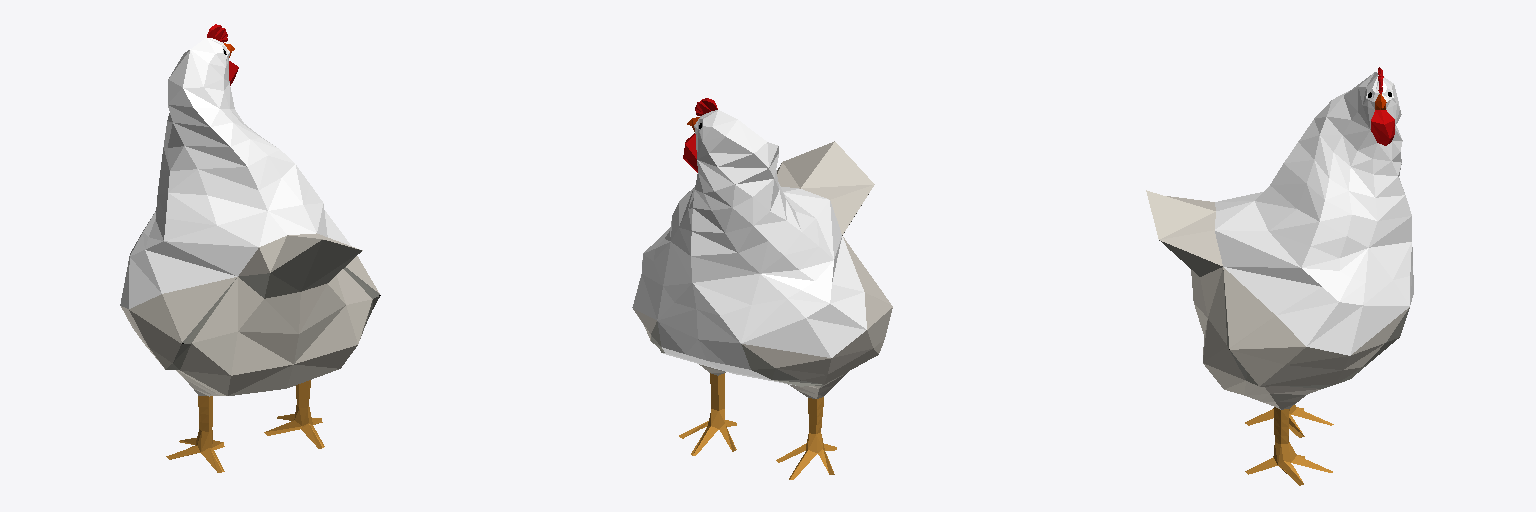
The model's file is frame8.obj.
3 views of the same model, side by side, from view 1: azimuth 30°, elevation 25°; view 2: azimuth 150°, elevation 25°; view 3: azimuth 270°, elevation 25° (orthographic).
Parts seen in each view (by area): view 1: frame12:Chicken; view 2: frame12:Chicken; view 3: frame12:Chicken.
Boxes of the visible parts, box(x1,y1,x2,y2) form: frame12:Chicken: box(120, 24, 380, 472); frame12:Chicken: box(632, 98, 892, 479); frame12:Chicken: box(1146, 67, 1413, 485).
Size of the model in its own units: 2.14 by 3.49 by 2.2.